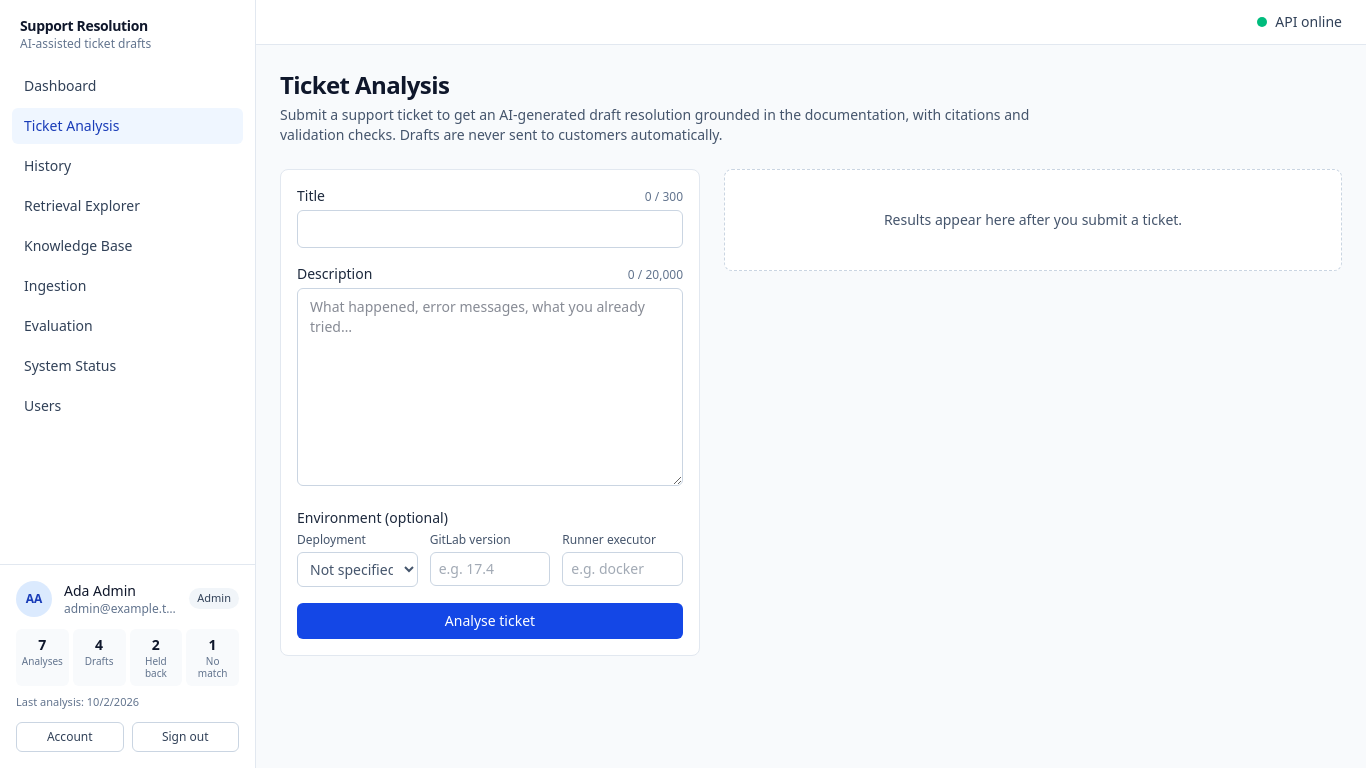
Test: Ticket Analysis › tells the user how long to wait when rate limited
Type "Runner TLS error" into the field labelled "Title" at (490, 229), box [297,210,683,248]
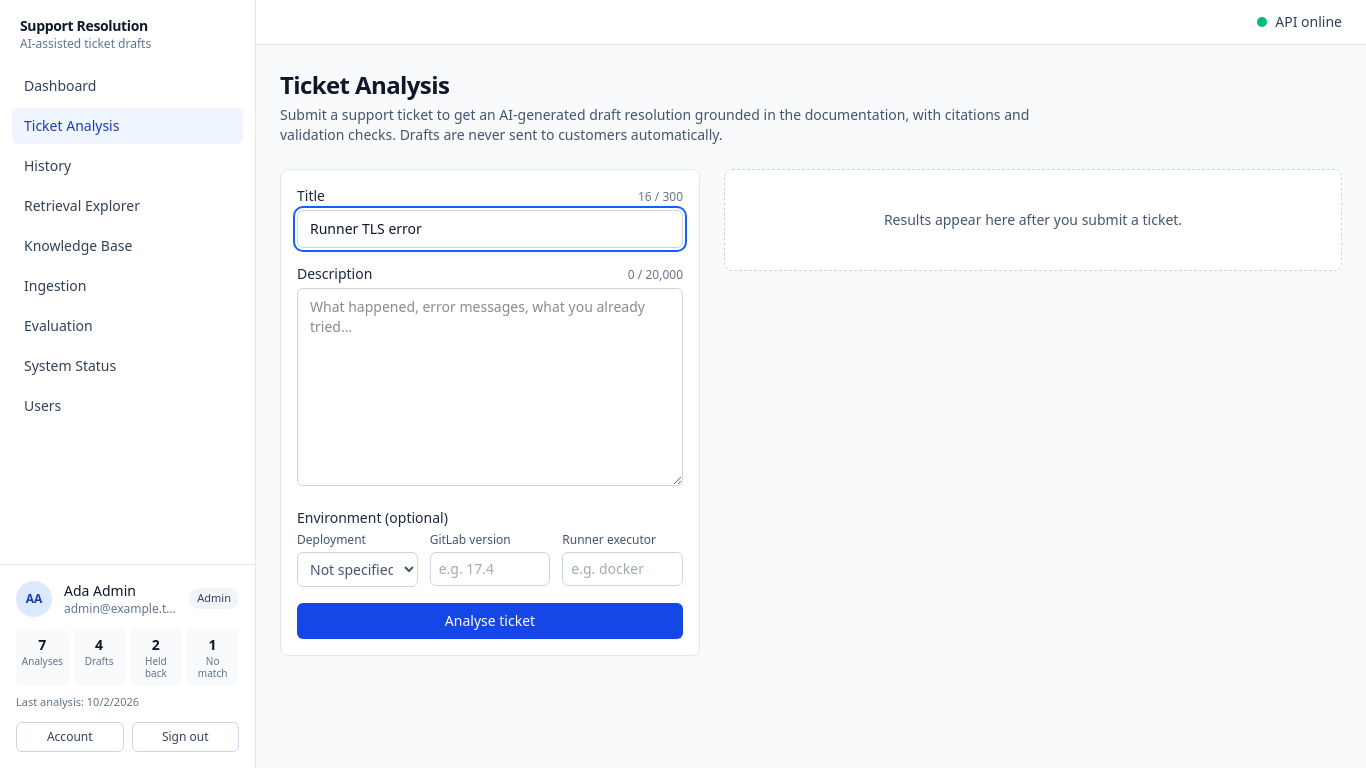
Type "x509: certificate signed by unknown authority" into the text box labelled "Description" at (490, 387), box [297,288,683,486]
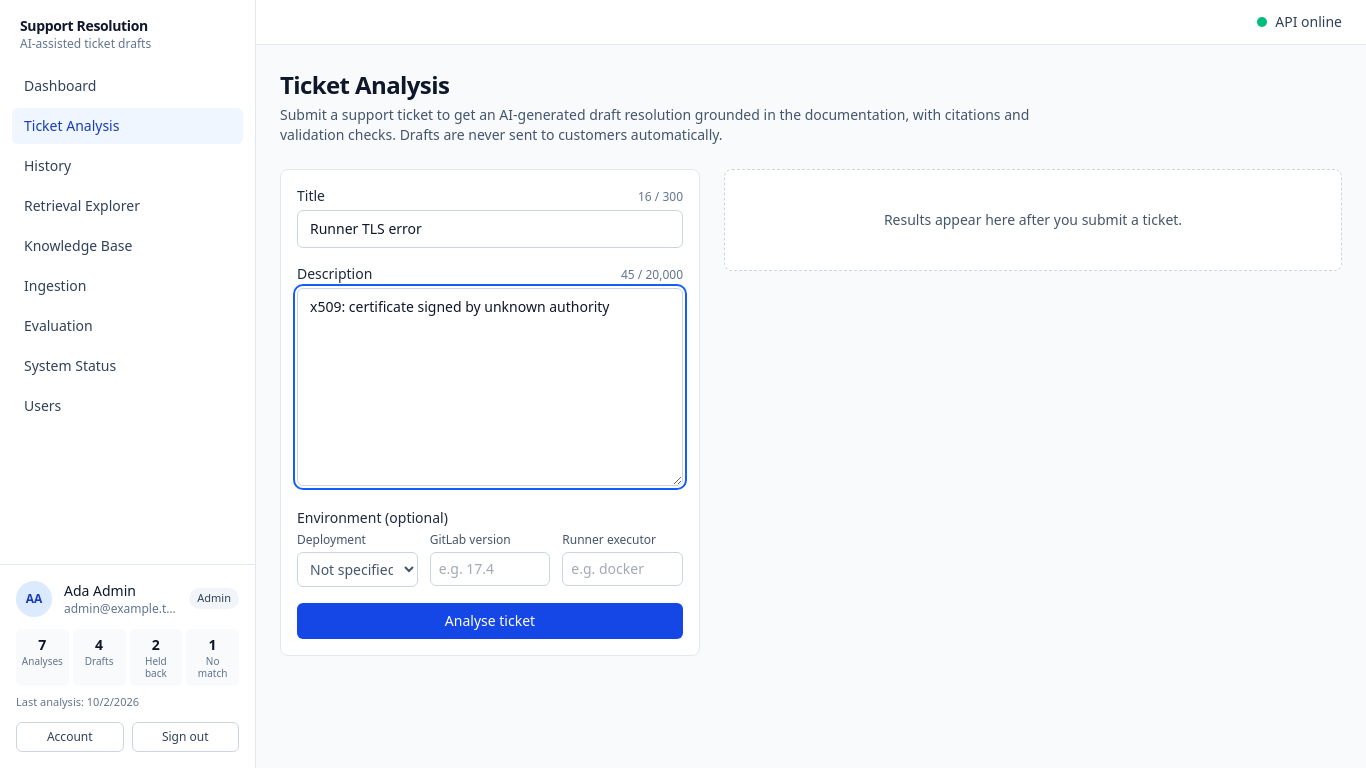
Click the button "Analyse ticket" at (490, 621), box [297,603,683,639]
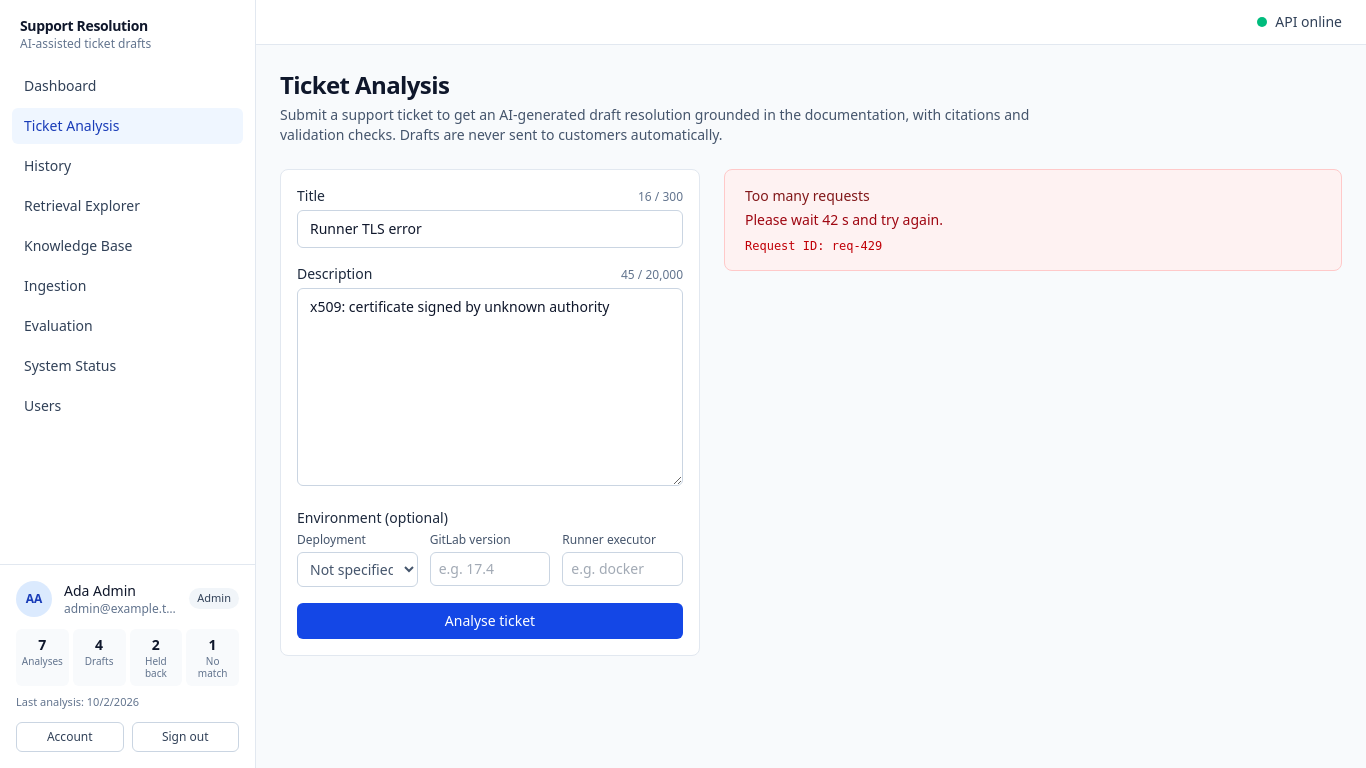
Expected: the heading "Too many requests" is shown, [745,186,870,205]
Expected: the text "Please wait 42 s and try again." is shown, [745,210,943,229]
